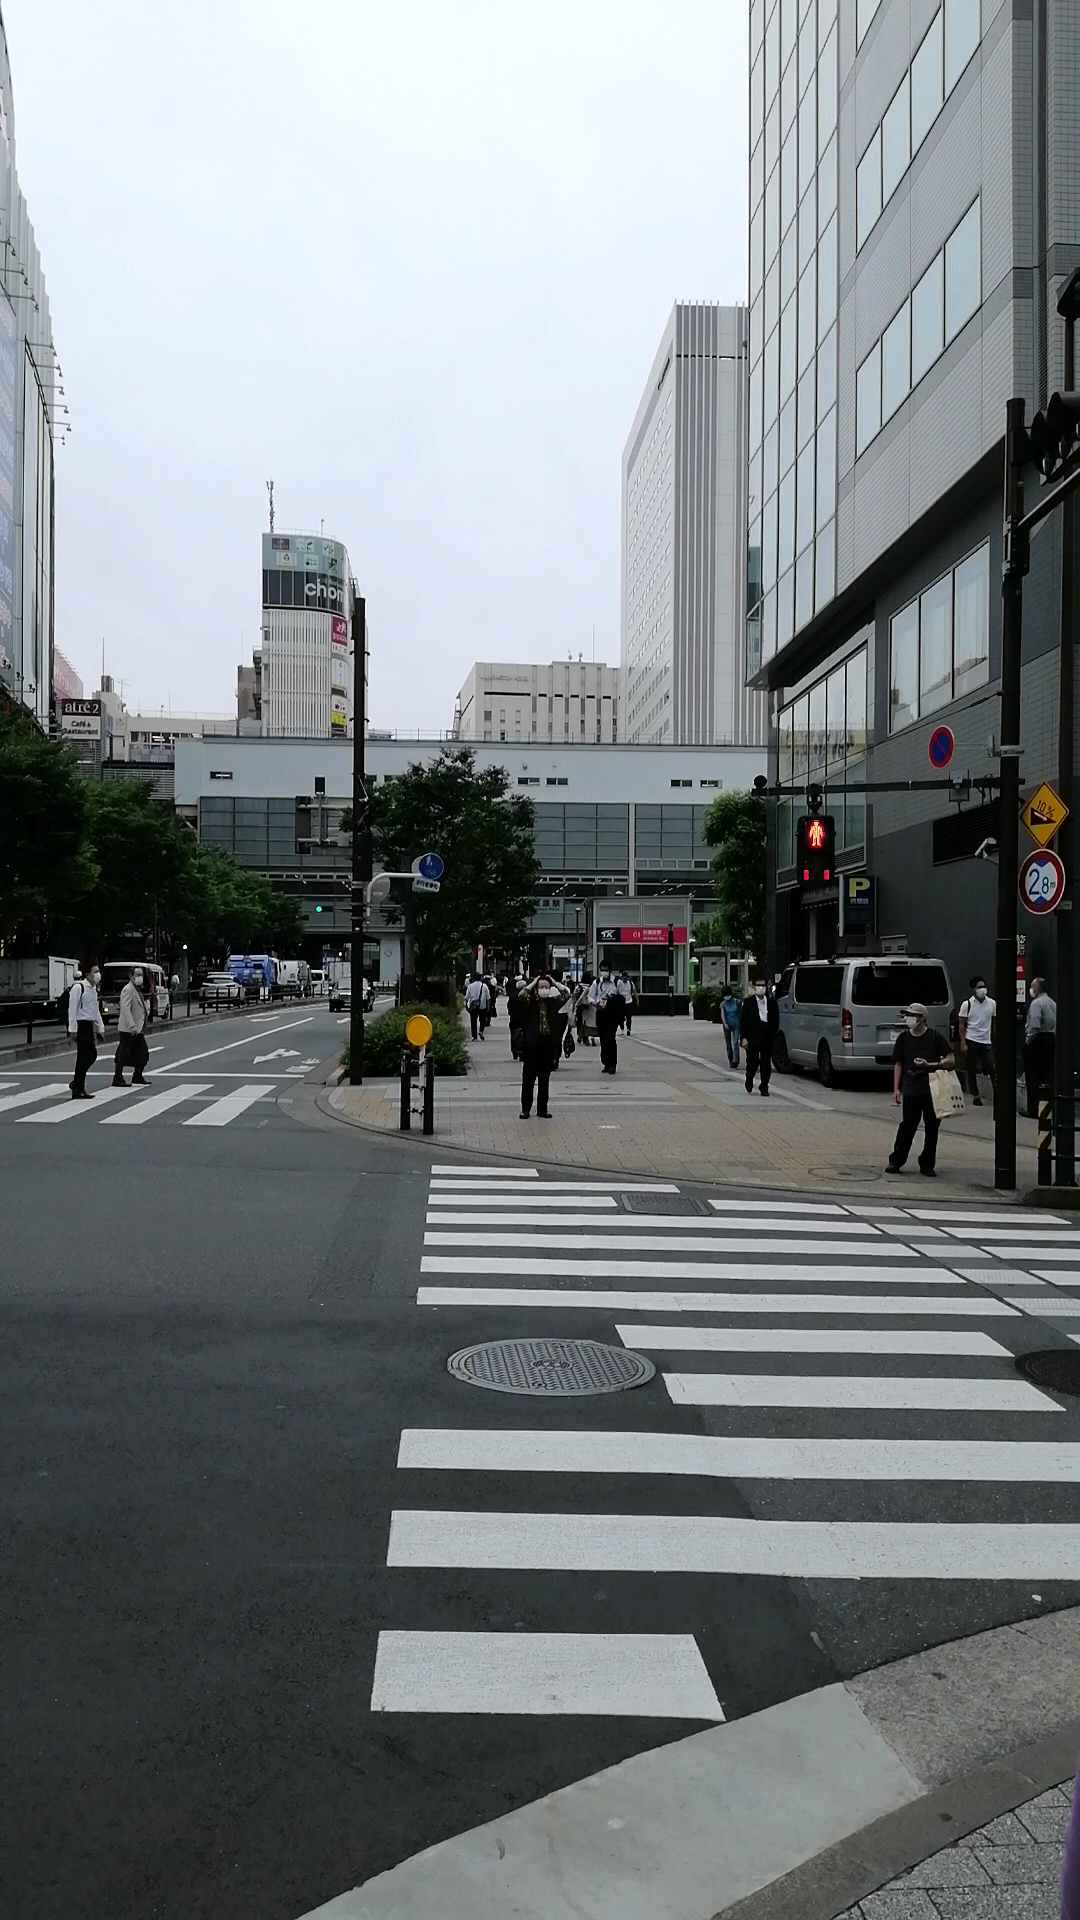red: (796, 815, 835, 886)
